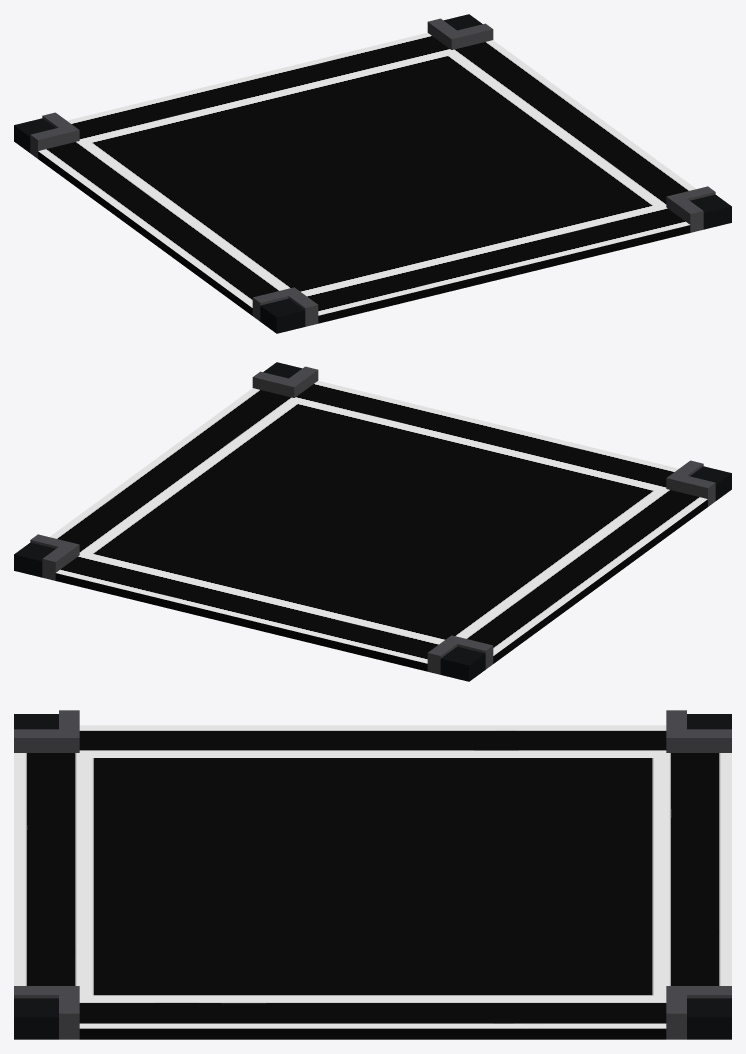
The model's file is RoadX.glb.
3 renders of one model, top to bottom at view 1: azimuth 30°, elevation 25°; view 2: azimuth 150°, elevation 25°; view 3: azimuth 270°, elevation 25°, orthographic. The views are drawn at different scales.
Parts seen in each view (by area): view 1: Road2_X; view 2: Road2_X; view 3: Road2_X.
Part boxes in pixels (box(x1,y1,x2,y2)): Road2_X: box(14, 14, 731, 333); Road2_X: box(14, 362, 731, 681); Road2_X: box(14, 710, 731, 1039).
Bounding box in the file's own units: 3.66 × 0.1449 × 3.66.
1 material, 1 textured.
